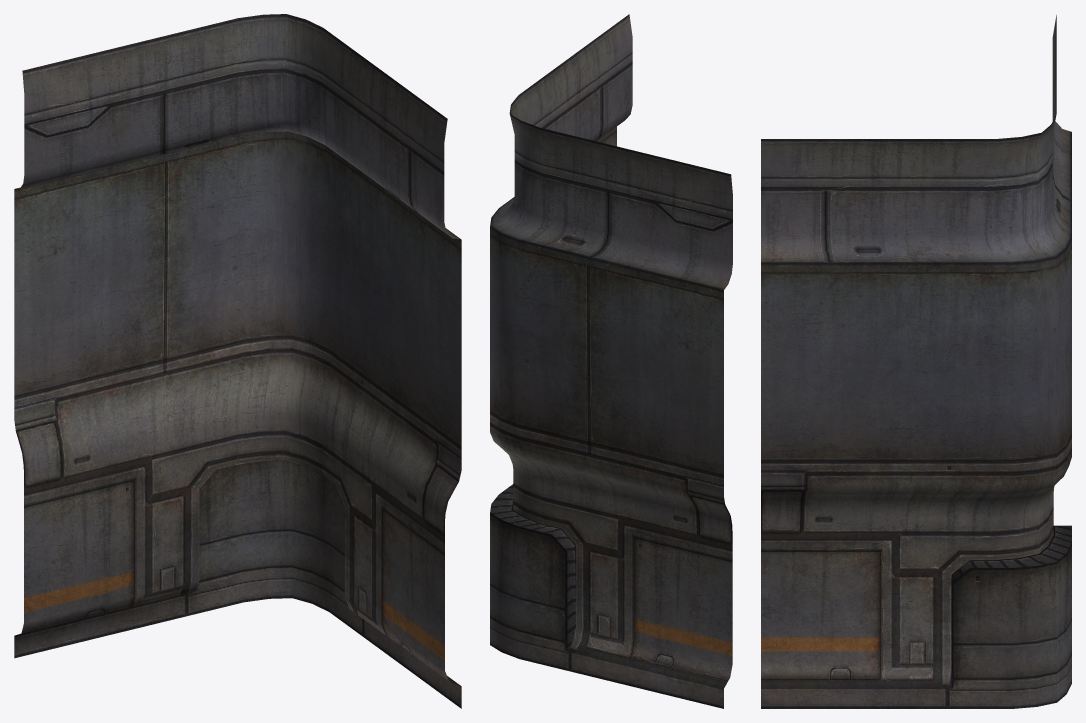
Rendered from bathroom_concave.DAE.
3 views of the same model, side by side, from view 1: azimuth 30°, elevation 25°; view 2: azimuth 150°, elevation 25°; view 3: azimuth 270°, elevation 25° (orthographic). The views are drawn at different scales.
Parts seen in each view (by area): view 1: Object002; view 2: Object002; view 3: Object002.
Boxes of the visible parts, box(x1,y1,x2,y2) form: Object002: box(14, 14, 461, 708); Object002: box(490, 14, 732, 708); Object002: box(761, 15, 1071, 708).
Size of the model in its own units: 2 by 4 by 2.
